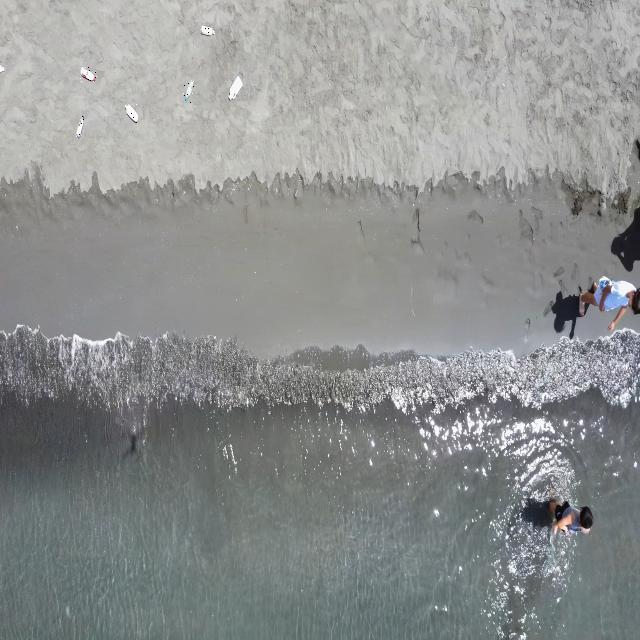plastic-bottle: (229, 76, 243, 100), (80, 67, 97, 84), (183, 78, 194, 104), (125, 103, 139, 123), (200, 25, 216, 39), (76, 115, 84, 138)
